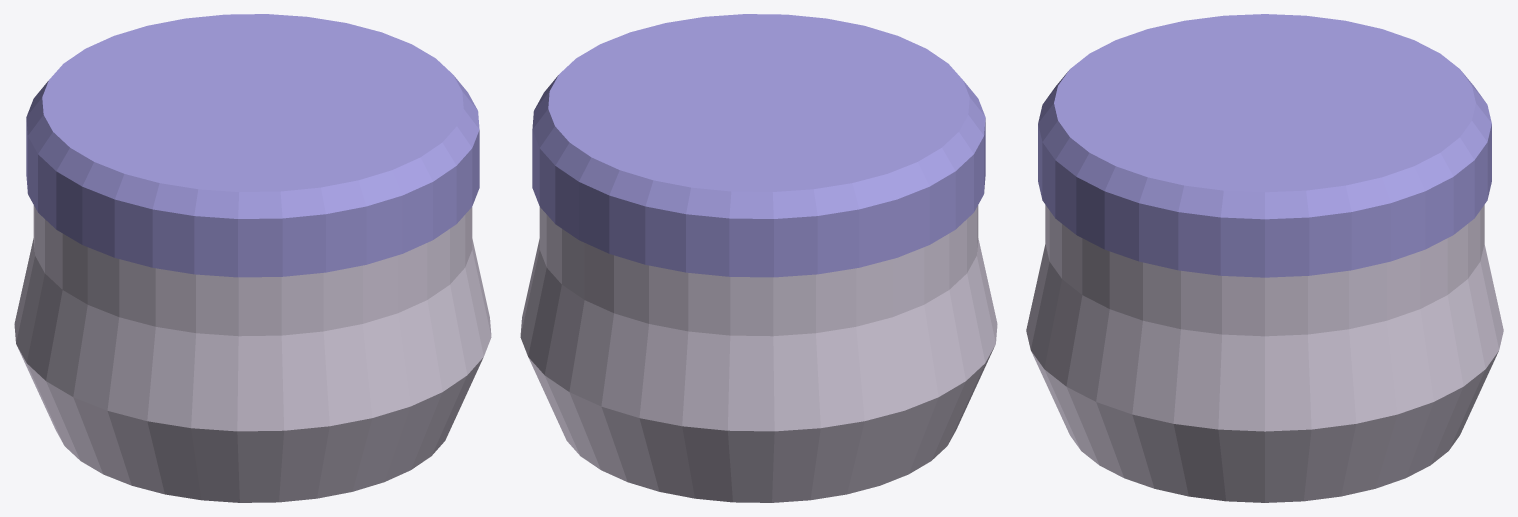
File: models.glb
3 views of the same model, side by side, from view 1: azimuth 30°, elevation 25°; view 2: azimuth 150°, elevation 25°; view 3: azimuth 270°, elevation 25° (orthographic).
Visible parts, largest first — view 1: Окружность.002, Окружность.001; view 2: Окружность.002, Окружность.001; view 3: Окружность.002, Окружность.001.
Part boxes in pixels (left/top/right/bottom): Окружность.002: left=26, top=14, right=479, bottom=277; Окружность.001: left=14, top=205, right=491, bottom=502; Окружность.002: left=532, top=14, right=985, bottom=277; Окружность.001: left=520, top=205, right=997, bottom=502; Окружность.002: left=1038, top=14, right=1491, bottom=277; Окружность.001: left=1026, top=205, right=1503, bottom=502.
Size of the model in its own units: 0.26 by 0.1896 by 0.26.
